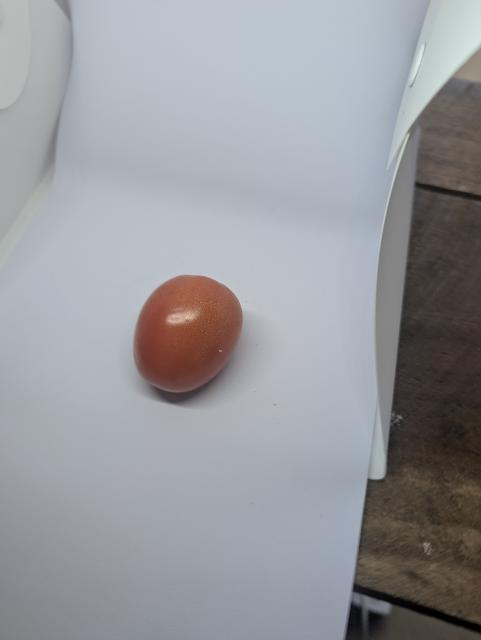red: (130, 254, 248, 412)
